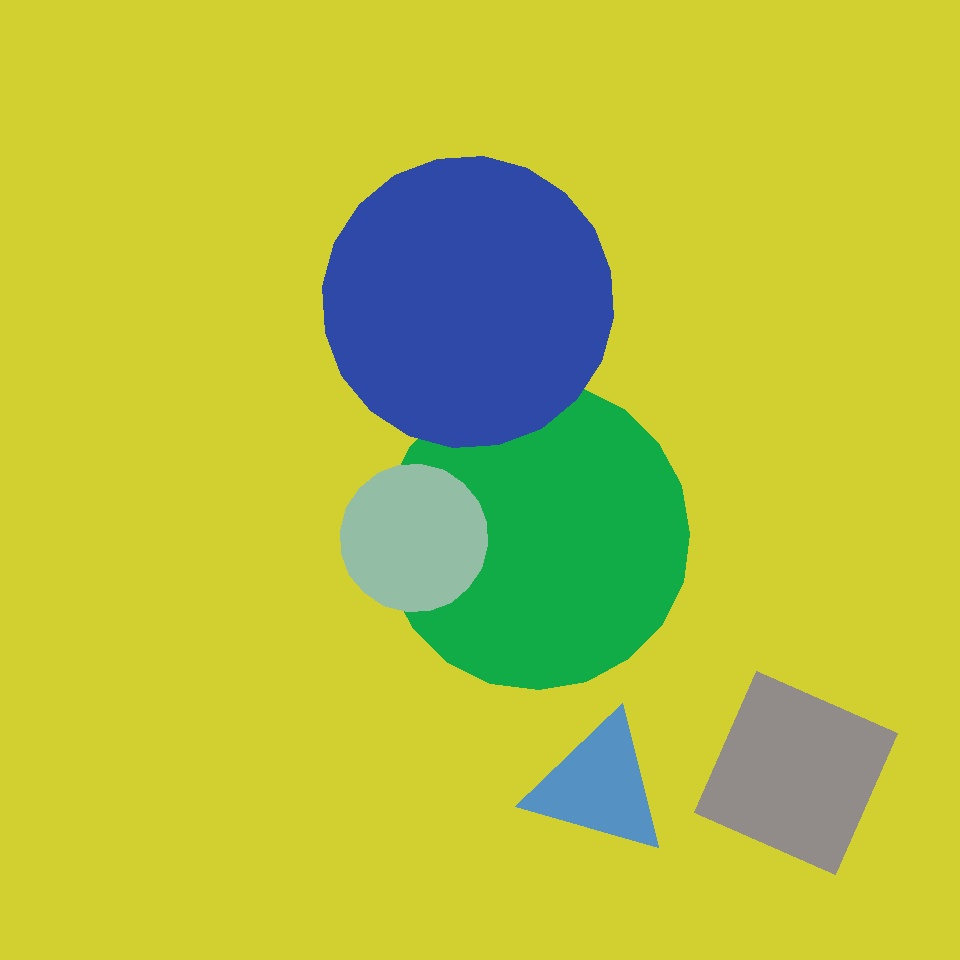circle: (528, 714, 670, 858), (135, 250, 245, 349)
square: (414, 231, 742, 560), (258, 421, 471, 635), (695, 672, 898, 874), (462, 218, 610, 366)
triangle: (281, 429, 629, 777), (382, 382, 690, 690), (322, 156, 614, 448), (341, 464, 488, 612)
